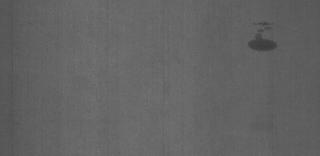oil spot: (243, 22, 289, 58)
